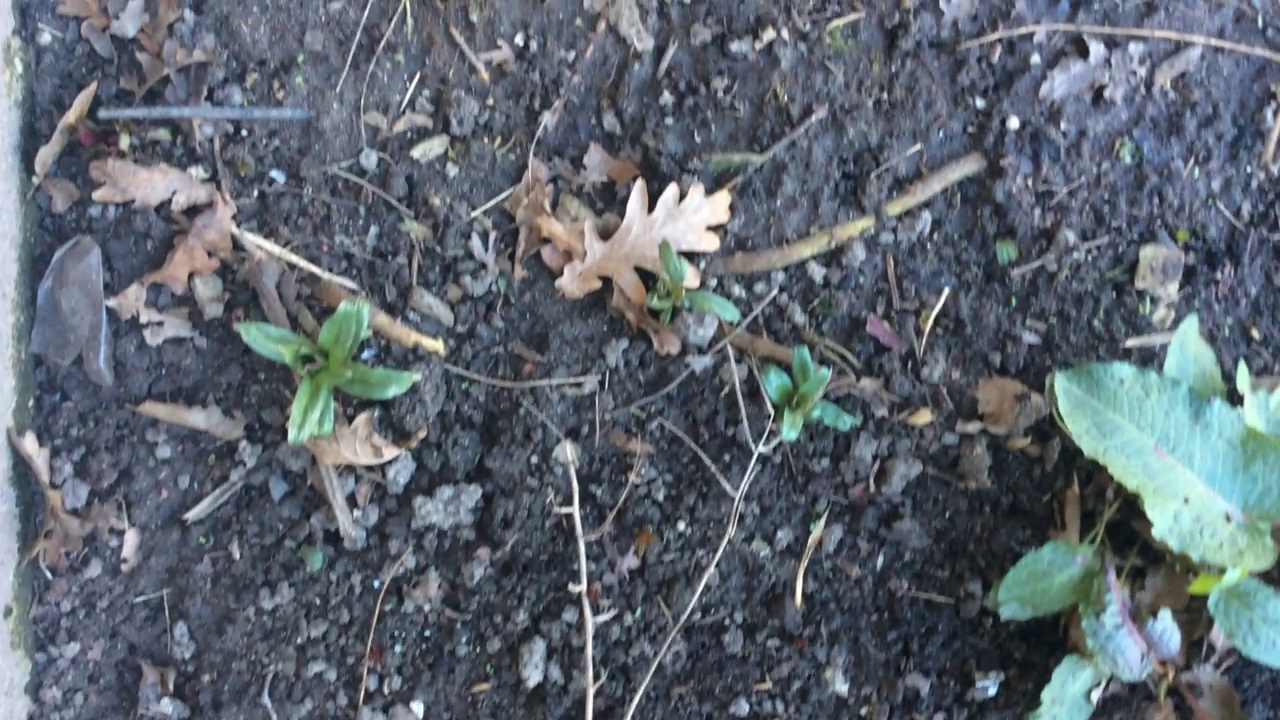rumex: (983, 319, 1279, 720)
